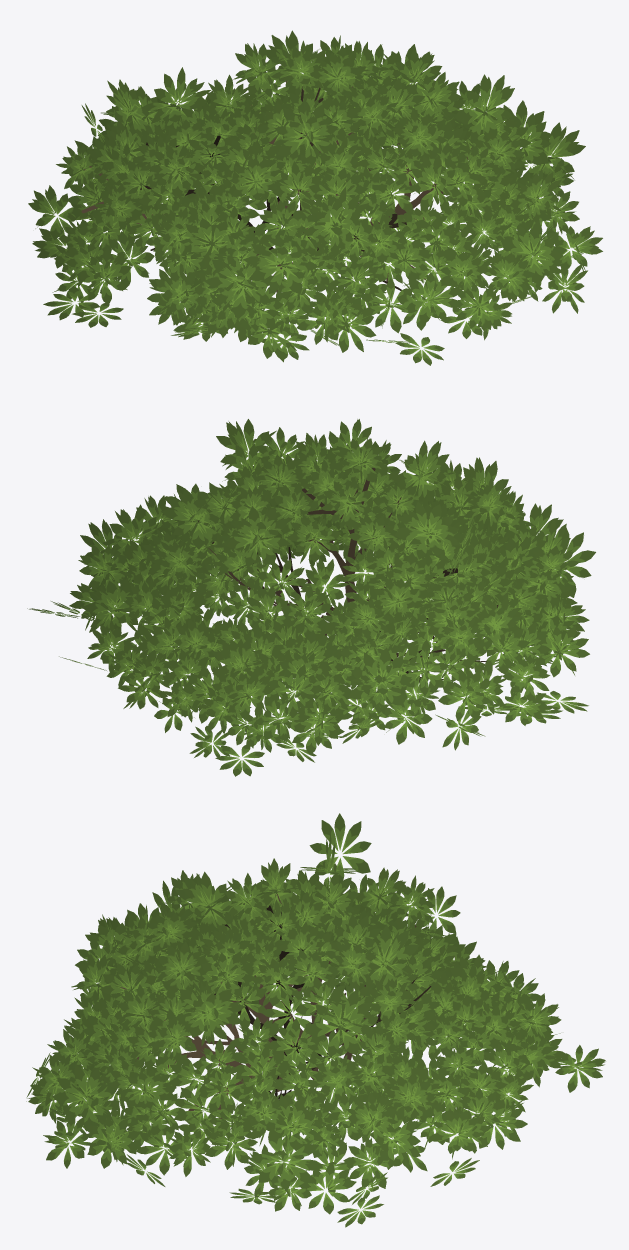
The model's file is SM_Env_Bush_01.fbx.
3 views of the same model, one above another, from view 1: azimuth 30°, elevation 25°; view 2: azimuth 150°, elevation 25°; view 3: azimuth 270°, elevation 25° (orthographic). The views are drawn at different scales.
Visible parts, largest first — view 1: SM_Env_Bush_01_Leaves_LOD0, SM_Env_Bush_01_Branches_LOD0; view 2: SM_Env_Bush_01_Leaves_LOD0, SM_Env_Bush_01_Branches_LOD0; view 3: SM_Env_Bush_01_Leaves_LOD0, SM_Env_Bush_01_Branches_LOD0.
Boxes of the visible parts, x1,y1,x2,y2 form: SM_Env_Bush_01_Leaves_LOD0: (28, 30, 602, 365); SM_Env_Bush_01_Branches_LOD0: (81, 81, 471, 292); SM_Env_Bush_01_Leaves_LOD0: (27, 419, 595, 776); SM_Env_Bush_01_Branches_LOD0: (198, 468, 498, 682); SM_Env_Bush_01_Leaves_LOD0: (26, 813, 605, 1227); SM_Env_Bush_01_Branches_LOD0: (118, 888, 454, 1142).
Size of what is drawn, in the model's own units: 279 by 128 by 268.
